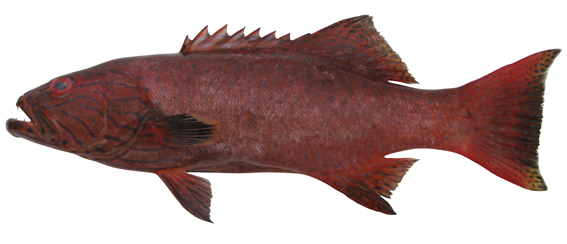fish: (5, 14, 563, 224)
